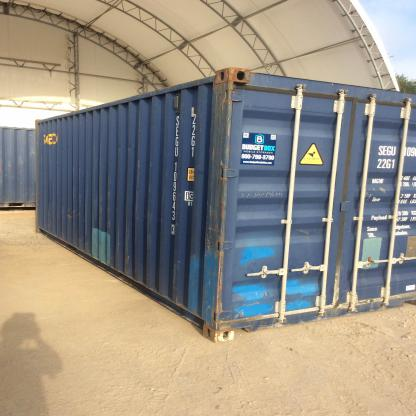Damage: (211, 68, 238, 258), (229, 276, 275, 322), (83, 222, 124, 271), (285, 268, 326, 311), (233, 236, 286, 268), (114, 144, 162, 172), (57, 200, 95, 228)
